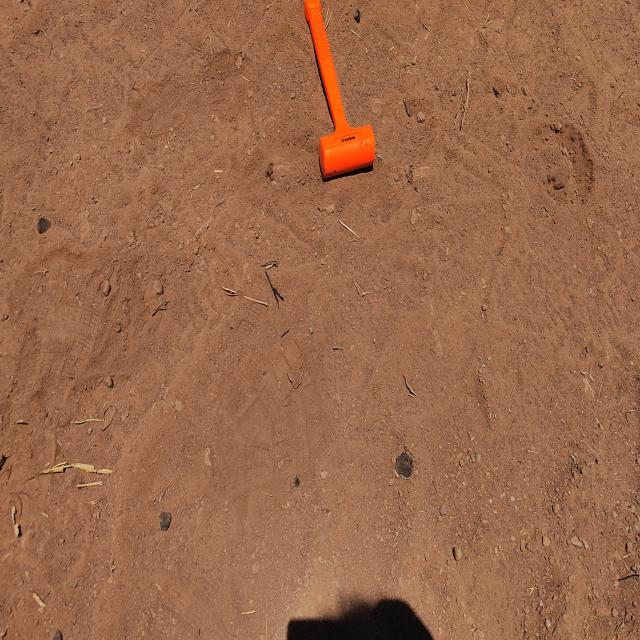Orange_hammer: (303, 0, 376, 181)
